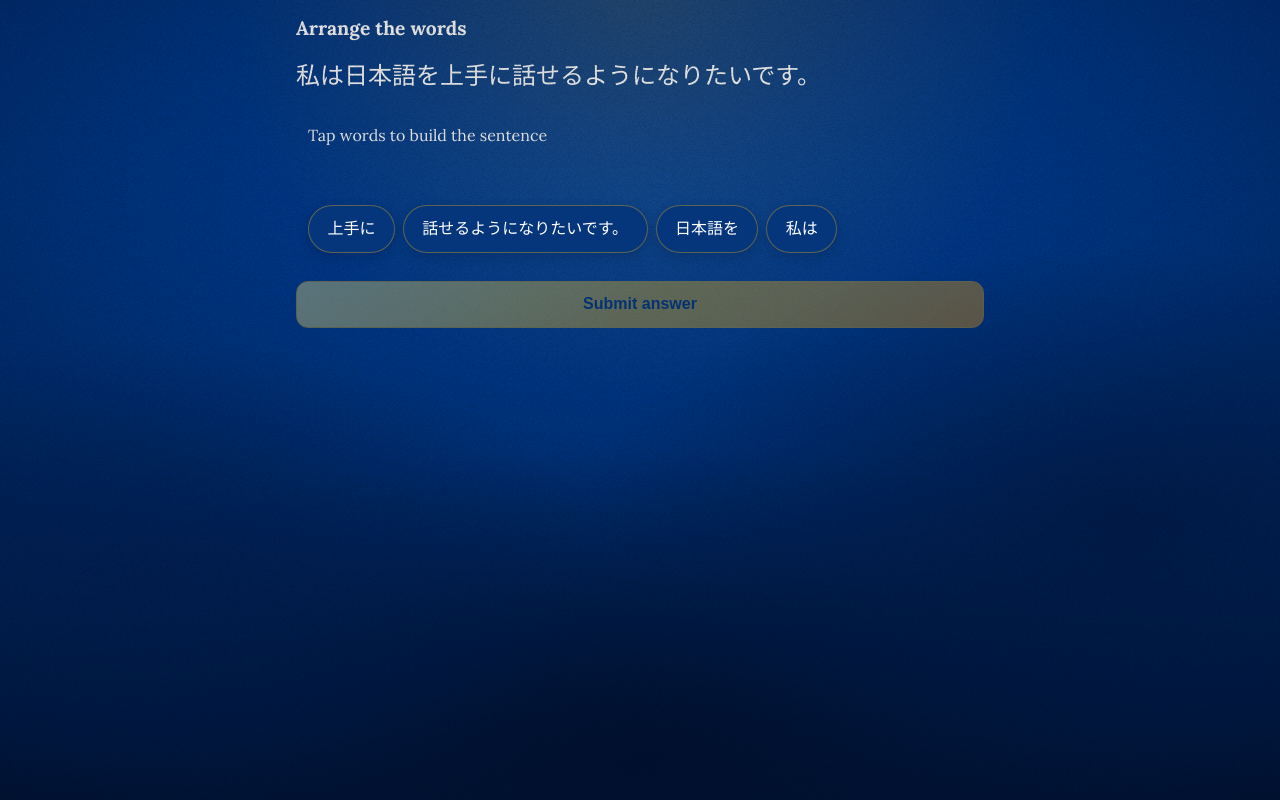
WordOrderingQuestion.svelte › shows shuffled words, builds a sentence by tapping, and keeps submit disabled until all words are placed
Expected: the element with test id "word-ordering-word-bank" is shown, 308,205 -> 837,253
Expected: the element with test id "word-ordering-sentence" is shown, 308,125 -> 547,145
Click the button "私は".
click(802, 229)  # box 766,205 -> 837,253
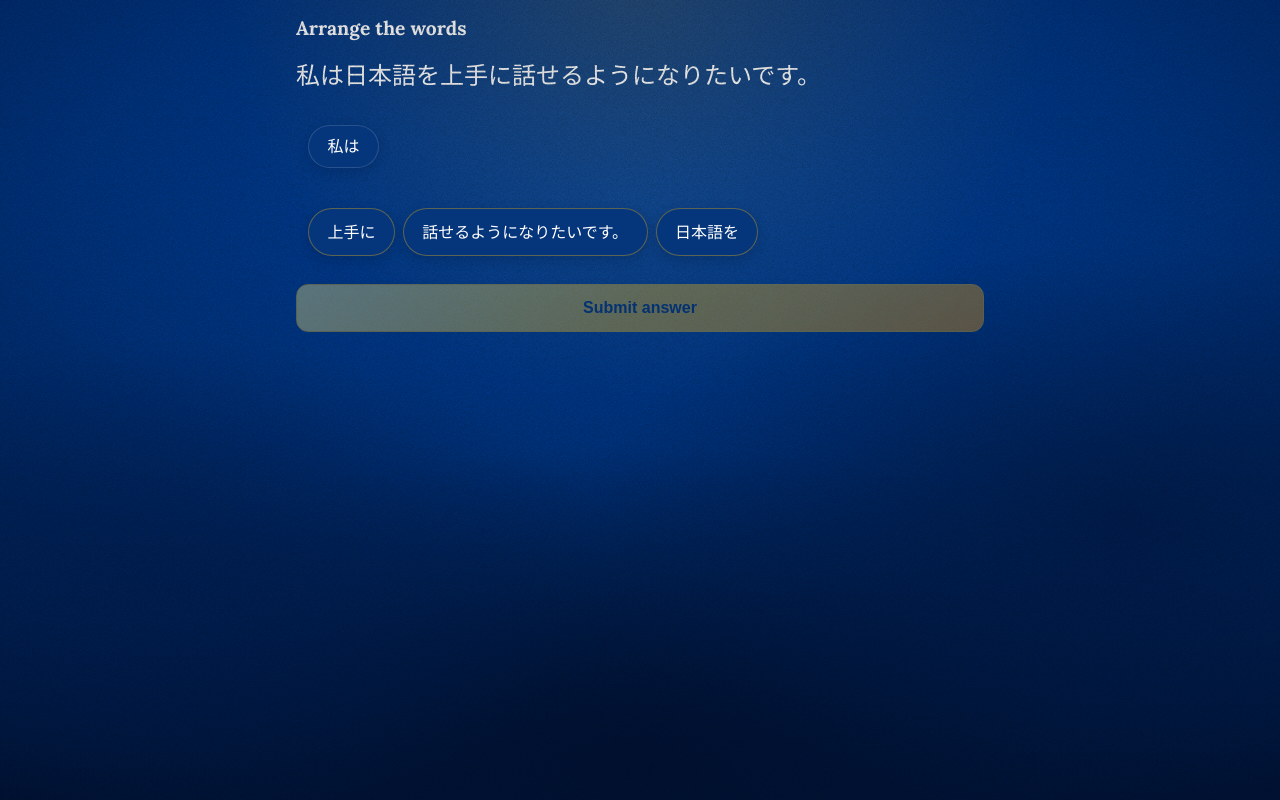
Click the button "日本語を".
click(707, 232)  # box 656,208 -> 758,256
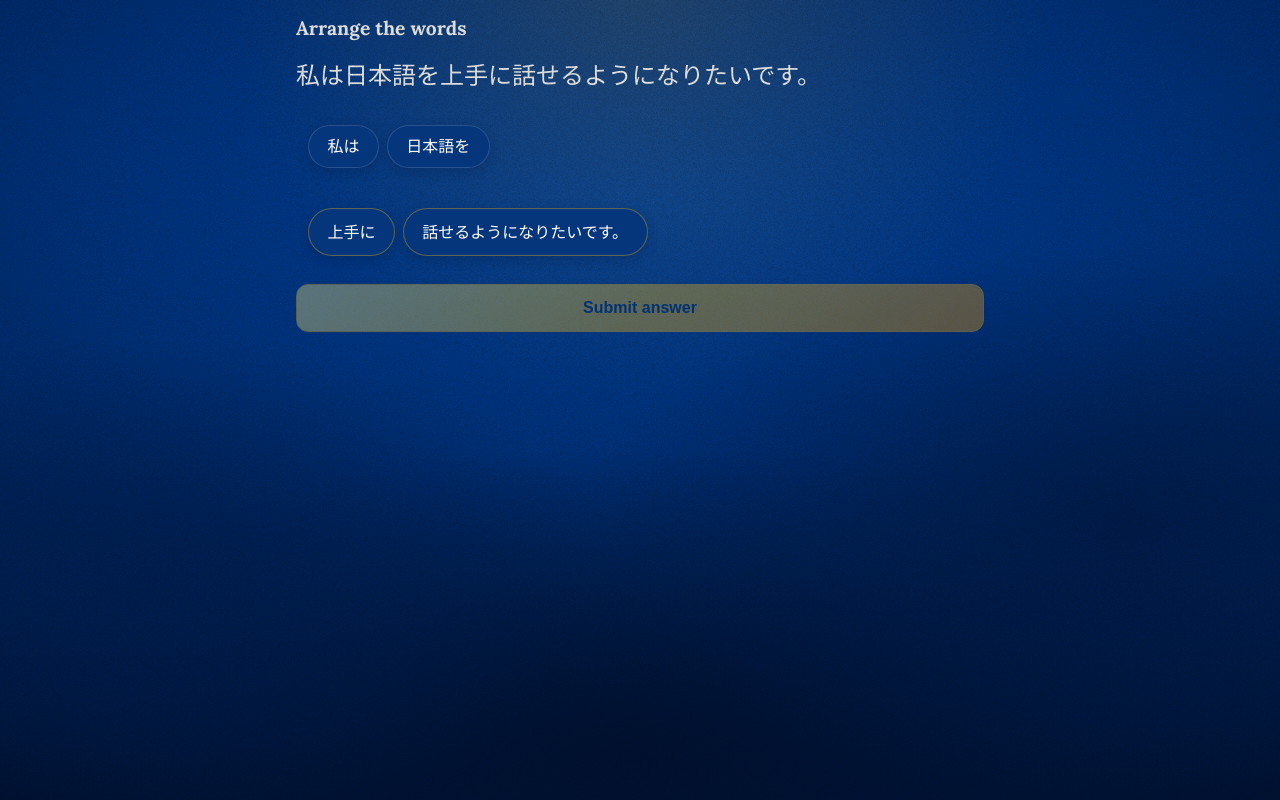
Click the button "上手に".
click(351, 232)  # box 308,208 -> 395,256
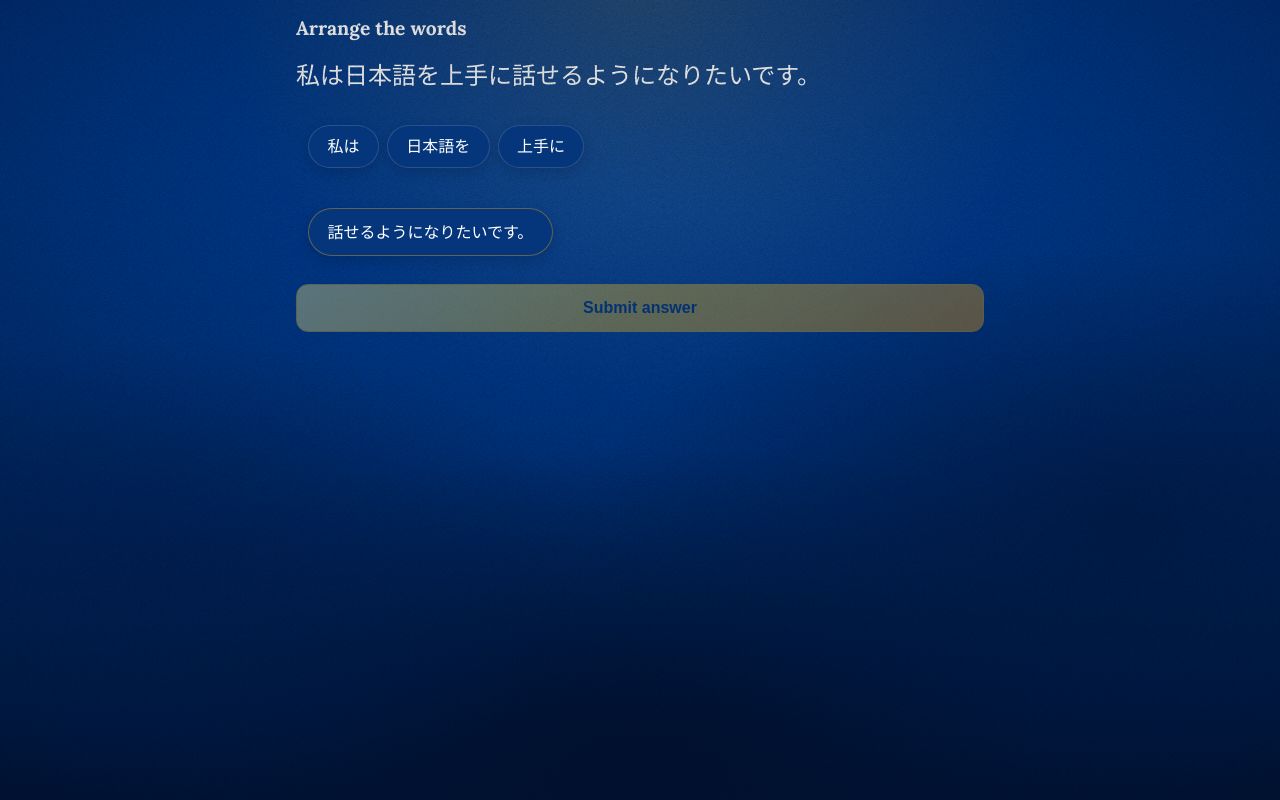
Click the button "話せるようになりたいです。".
click(430, 232)  # box 308,208 -> 553,256
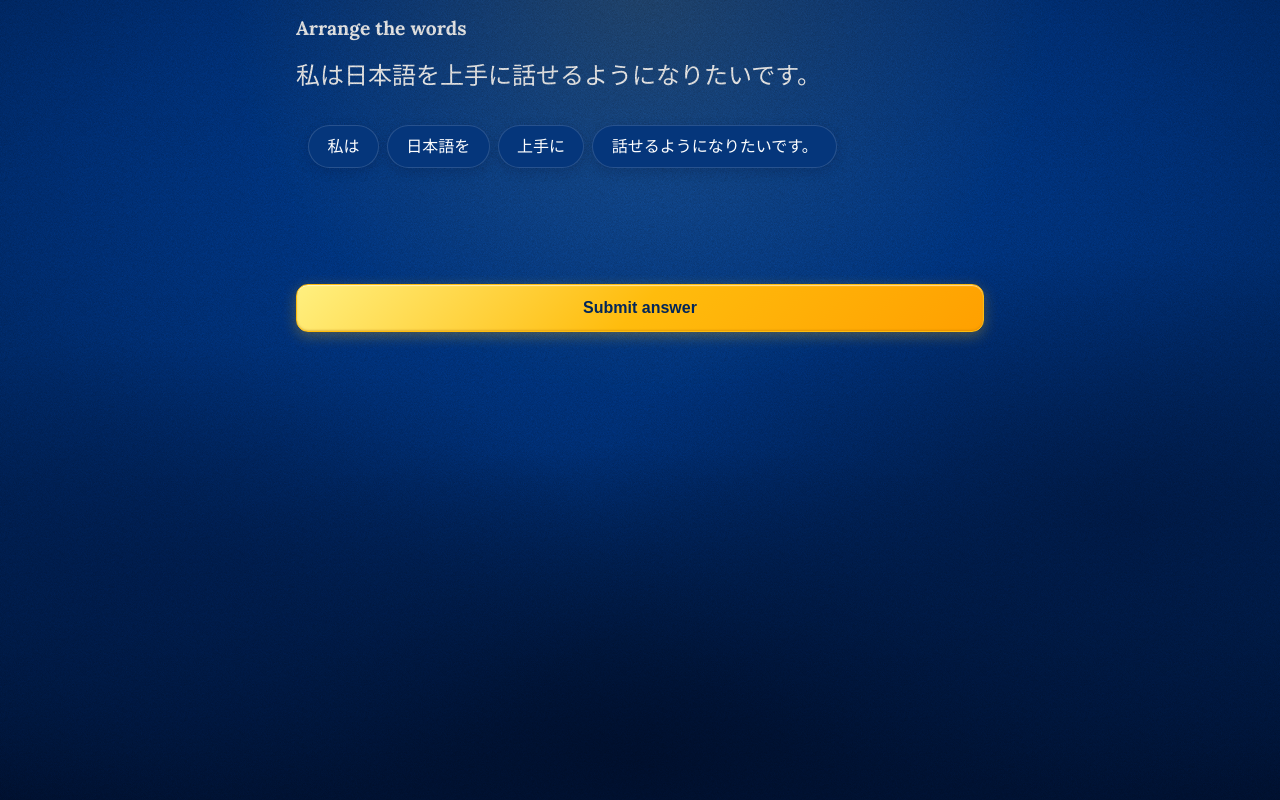
Result: the button "Submit answer" is enabled at 296,284 -> 984,332
